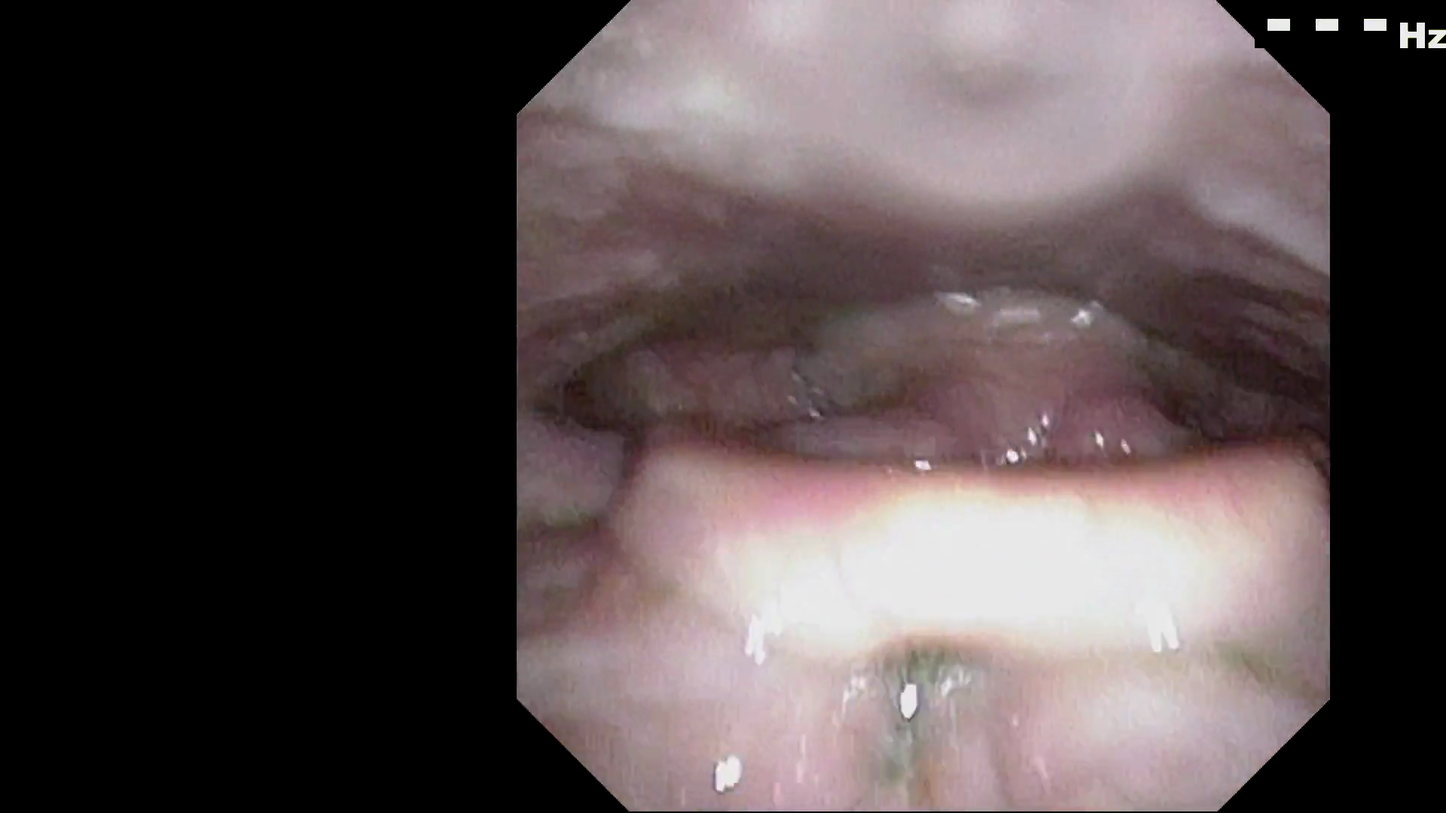epiglottis: (668, 453, 1282, 704), (699, 369, 1249, 536)
